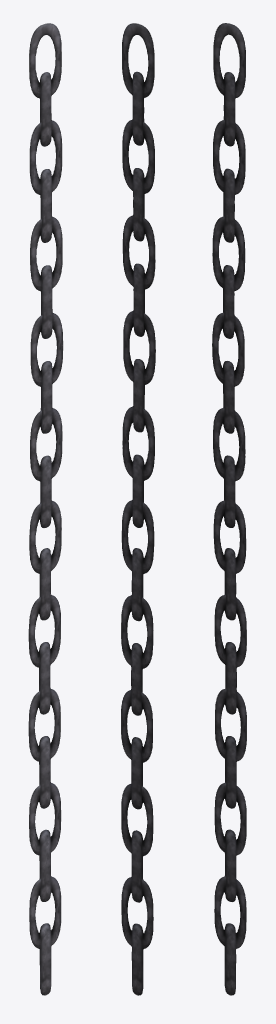
Rendered from Dungeon-Chain-Single.fbx.
The picture shows the model from 3 angles, left to right: view 1: azimuth 30°, elevation 25°; view 2: azimuth 150°, elevation 25°; view 3: azimuth 330°, elevation 25°; orthographic projection.
Visible parts, largest first — view 1: Dungeon-Chain-Single; view 2: Dungeon-Chain-Single; view 3: Dungeon-Chain-Single.
Part boxes in pixels (box(x1,y1,x2,y2)): Dungeon-Chain-Single: box(28, 23, 63, 995); Dungeon-Chain-Single: box(121, 23, 155, 995); Dungeon-Chain-Single: box(212, 23, 246, 995).
Size of the model in its own units: 7.13 by 109 by 0.4917.
